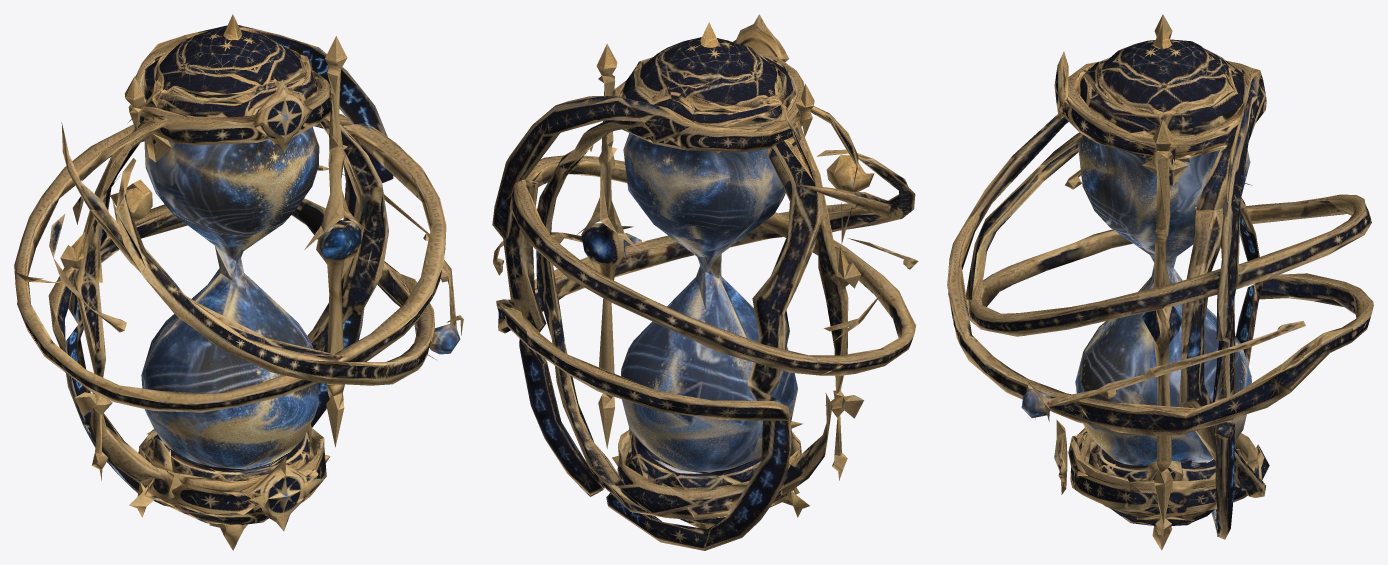
The model's file is named-hourglass_of_hollow_sand.glb.
3 views of the same model, side by side, from view 1: azimuth 30°, elevation 25°; view 2: azimuth 150°, elevation 25°; view 3: azimuth 270°, elevation 25° (orthographic).
Bounding box in the file's own units: 1.49 × 2 × 1.47.
1 material, 1 textured.
